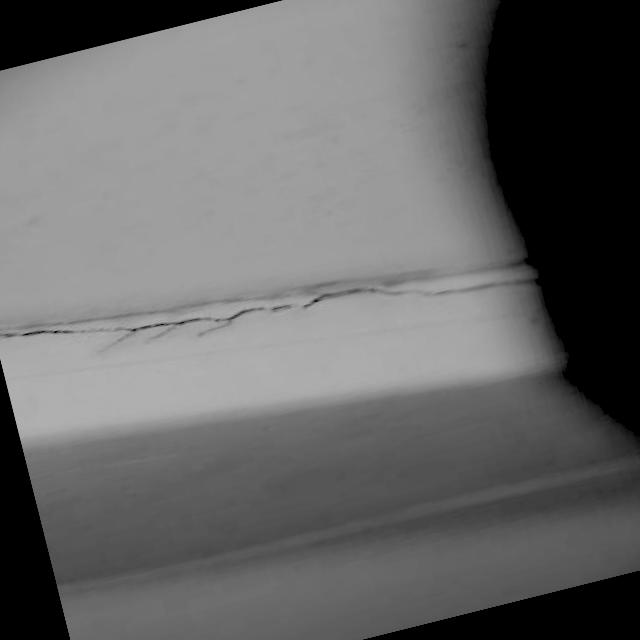crack: (386, 253, 538, 319), (0, 301, 123, 360), (234, 276, 378, 326), (127, 303, 231, 343)
